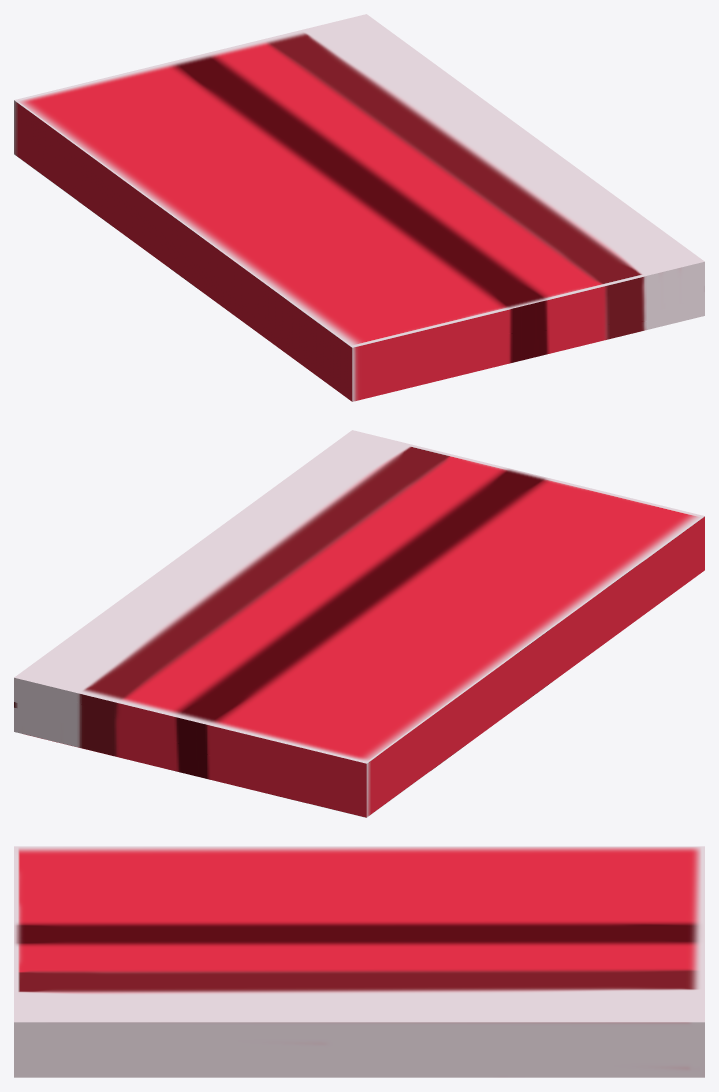
The model's file is Red_Keycard.glb.
3 renders of one model, top to bottom at view 1: azimuth 30°, elevation 25°; view 2: azimuth 150°, elevation 25°; view 3: azimuth 270°, elevation 25°, orthographic. The views are drawn at different scales.
Visible parts, largest first — view 1: Keycard; view 2: Keycard; view 3: Keycard.
Boxes of the visible parts, x1=… form: Keycard: x1=14, y1=14, x2=704, y2=401; Keycard: x1=14, y1=430, x2=704, y2=817; Keycard: x1=14, y1=846, x2=704, y2=1077.
Size of the model in its own units: 0.744 by 0.1093 by 1.24.
Materials: 1 (1 with a texture image).
